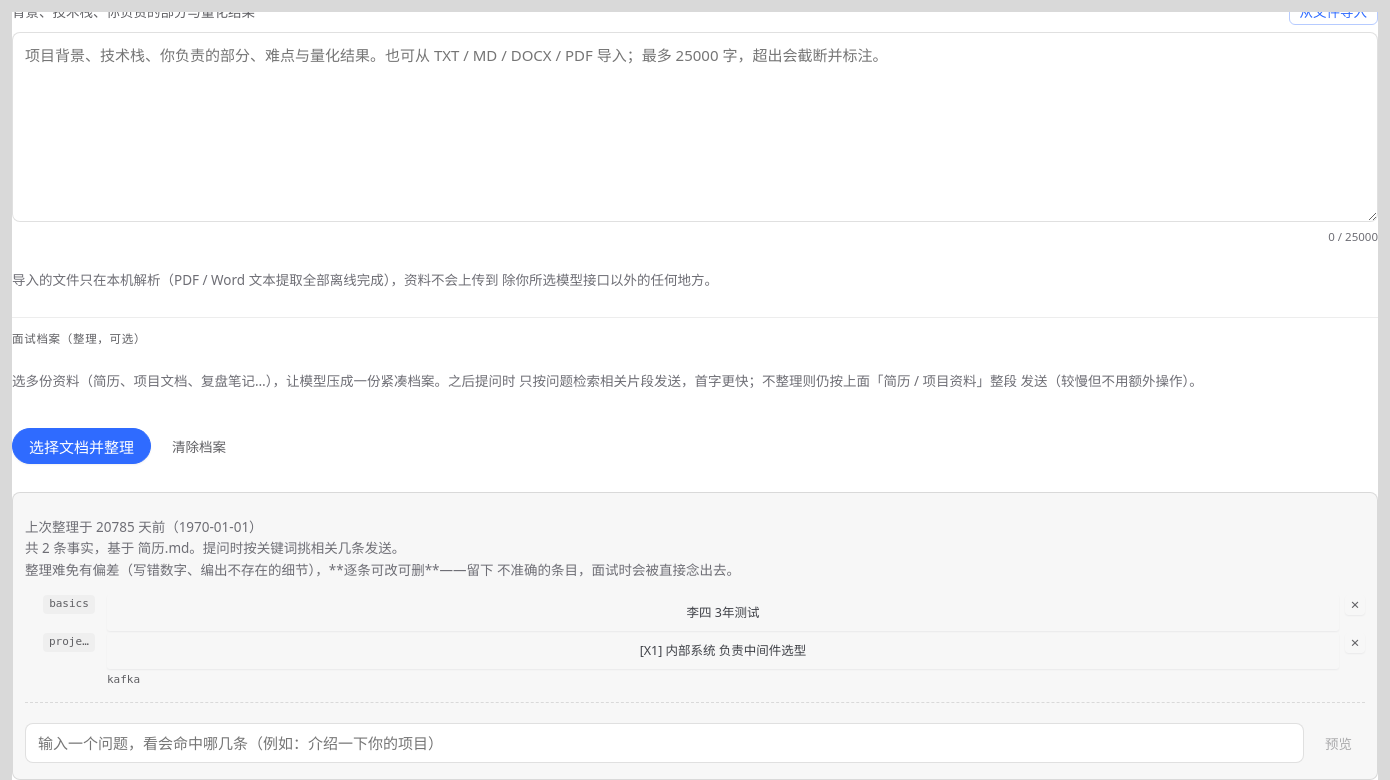
Scenario: ProfileCard —— 检索标签编辑 › 进入编辑时标签输入框带原值
(page scrolled)
Click the button "[X1] 内部系统 负责中间件选型": {"x": 723, "y": 651} [107,633,1339,669]
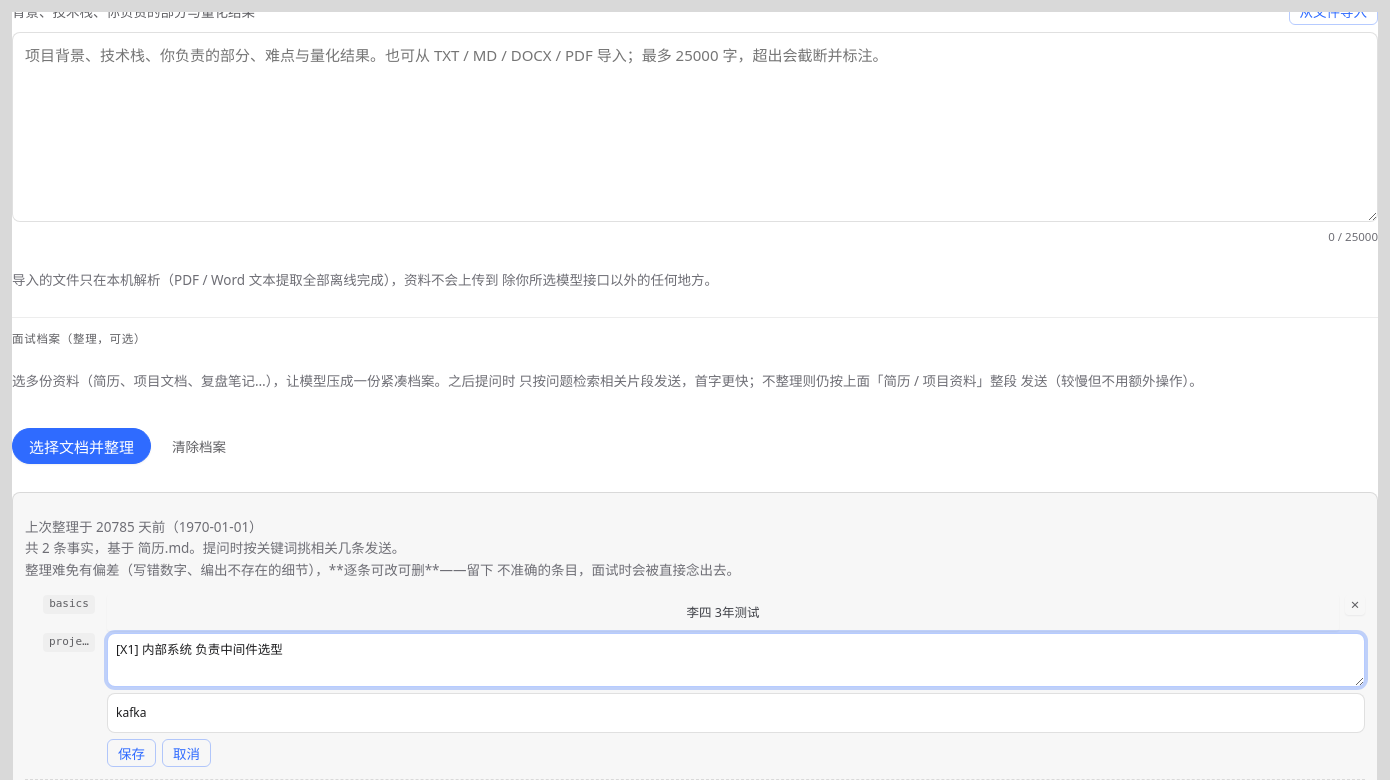
Result: the field named "编辑第 2 条事实的标签" holds "kafka" at [107,693,1365,733]
